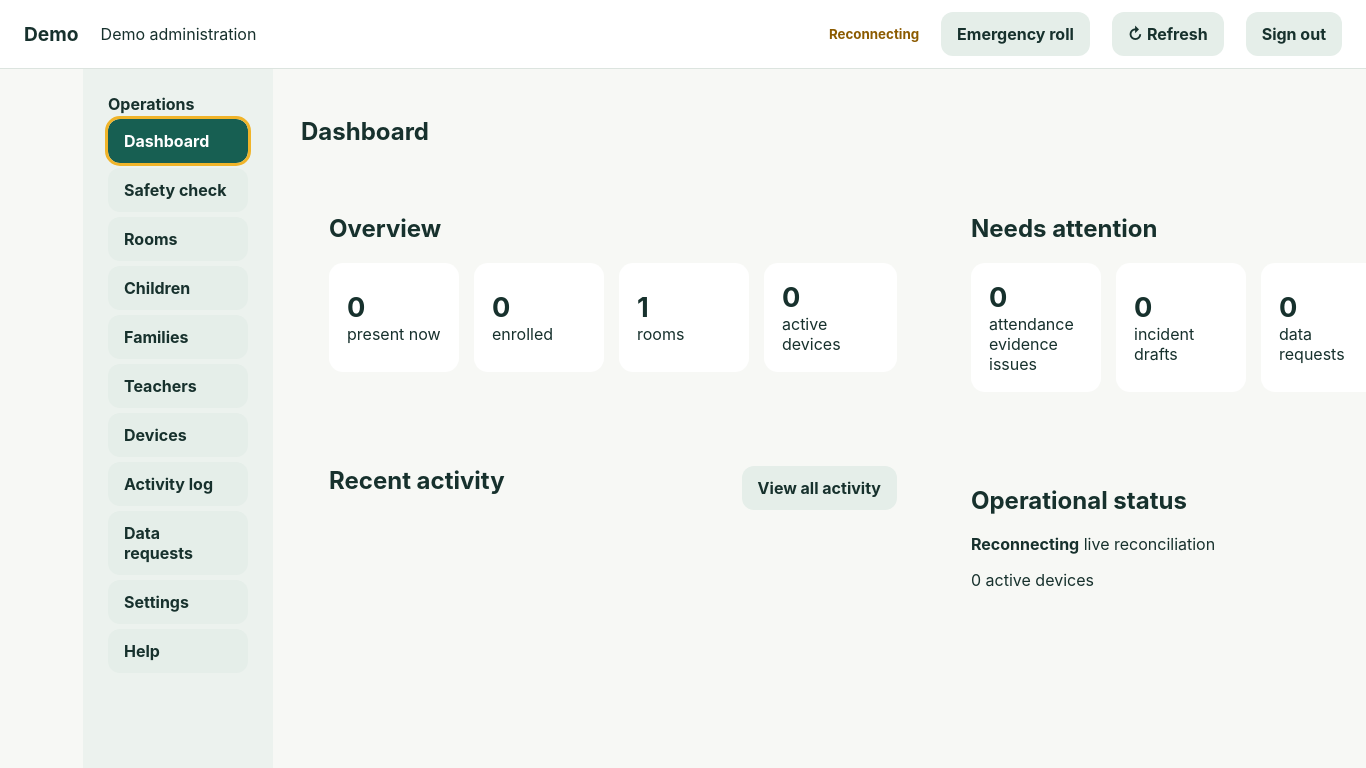
Scenario: 0.2.2 Admin pairing and dashboard › starts with QR, reveals words once, toggles locally, and opens the shared roll from the header
This screenshot has width=1366, height=768.
What coordinates should you click on to do the following:
click the button "Devices"
I would click on:
 (178, 435)
Its box is x1=108 y1=413 x2=248 y2=457.
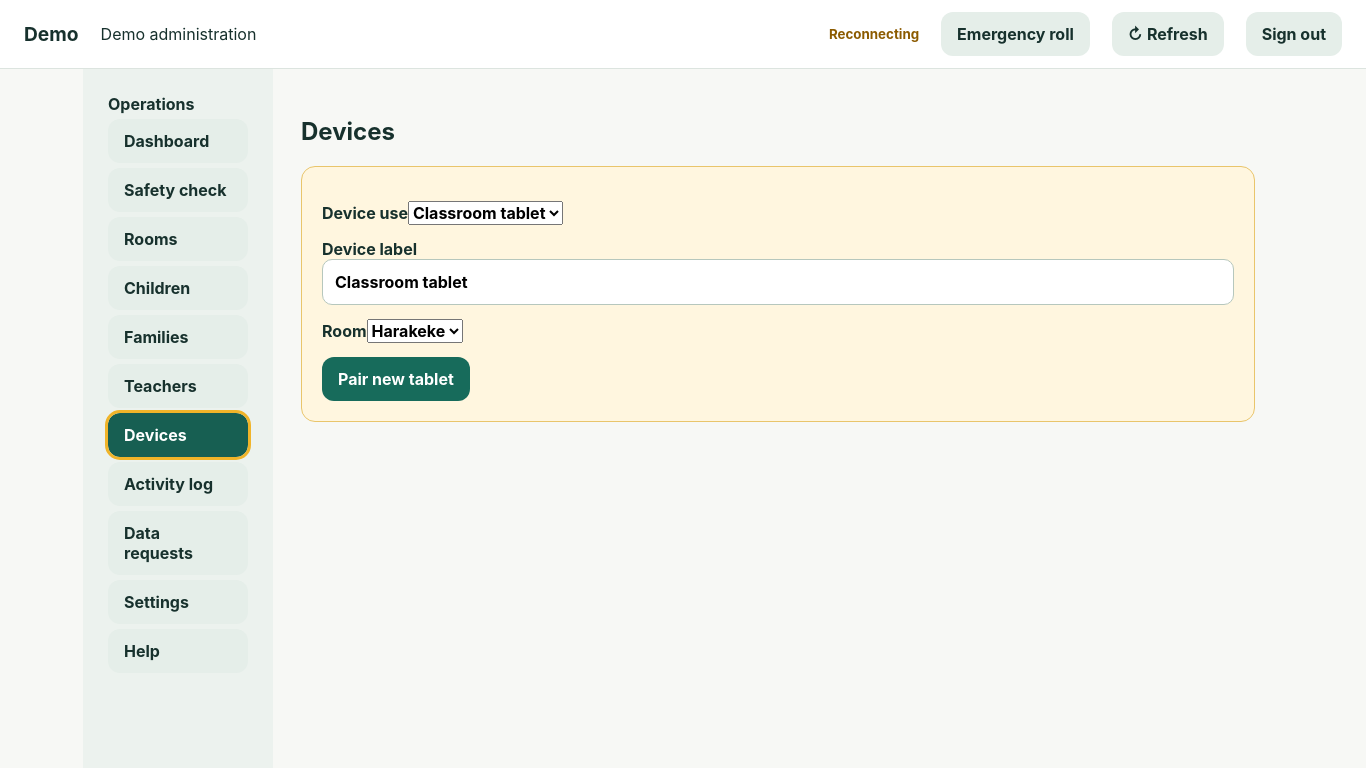
Result: the button "Pair new tablet" is shown
What coordinates should you click on to do the following:
click the button "Pair new tablet"
I would click on:
 (396, 379)
Its box is x1=322 y1=357 x2=470 y2=401.
(page scrolled)
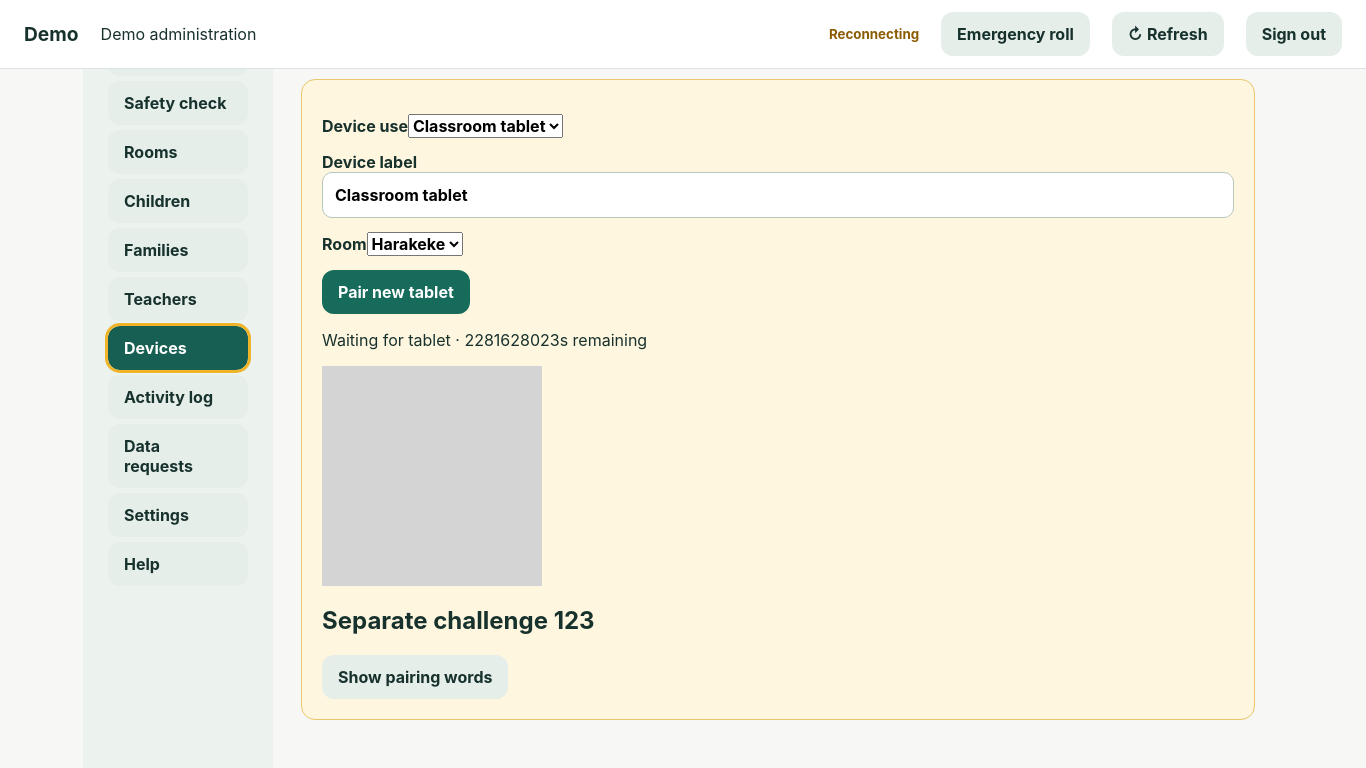
Expected: the text "river lamp garden" is not shown
What coordinates should you click on to do the following:
click the button "Show pairing words"
I would click on:
 (415, 677)
Its box is x1=322 y1=655 x2=508 y2=699.
(page scrolled)
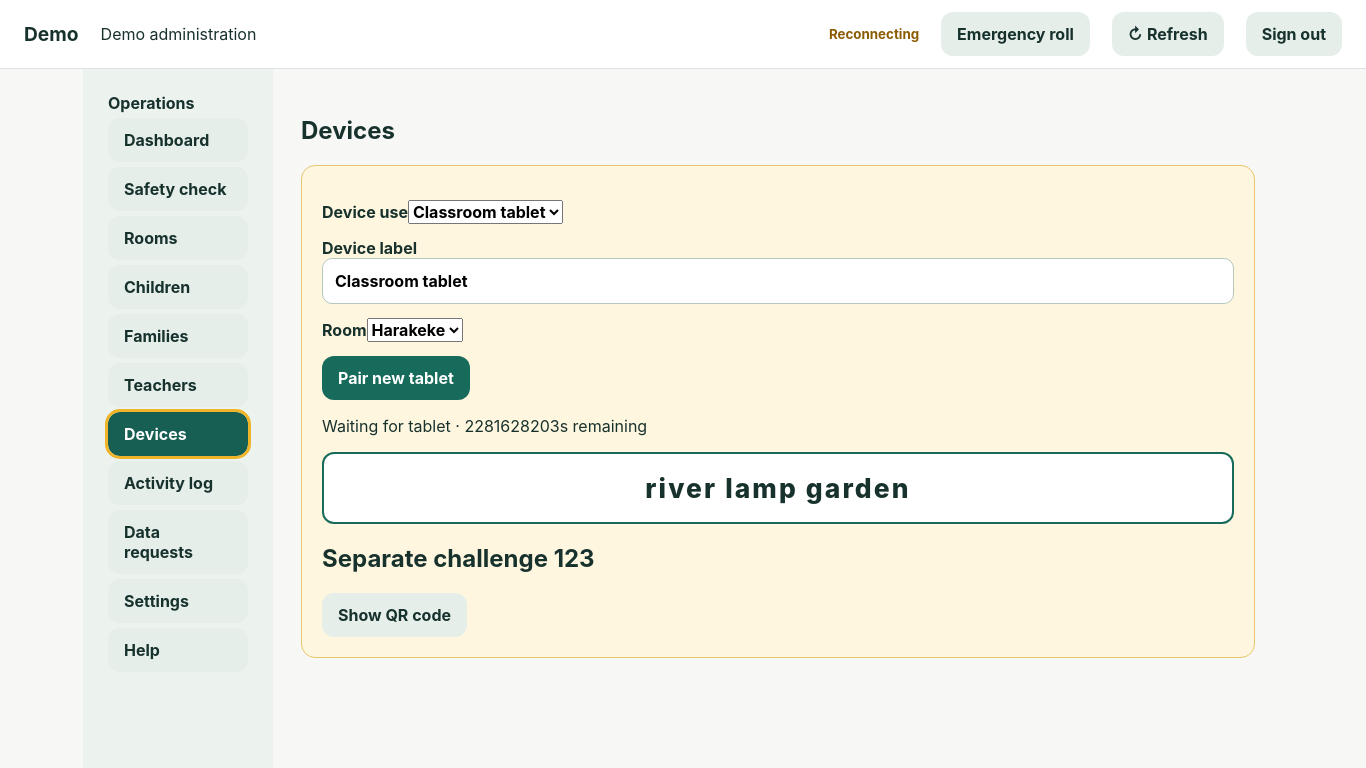
Result: the text "river lamp garden" is shown at x1=322 y1=452 x2=1234 y2=524
What coordinates should you click on to do the following:
click the button "Show QR code"
I would click on:
 (394, 615)
Its box is x1=322 y1=593 x2=467 y2=637.
(page scrolled)
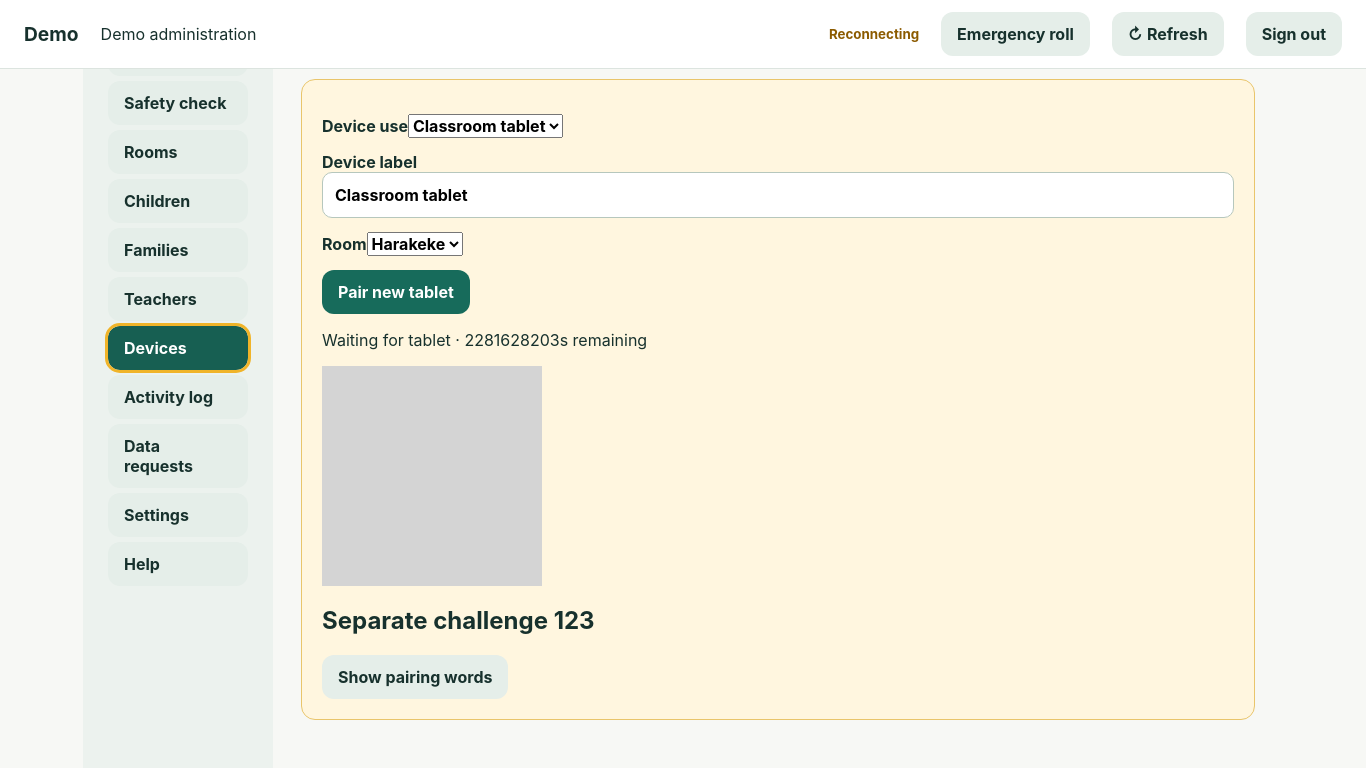
What coordinates should you click on to do the following:
click the button "Show pairing words"
I would click on:
 (415, 677)
Its box is x1=322 y1=655 x2=508 y2=699.
(page scrolled)
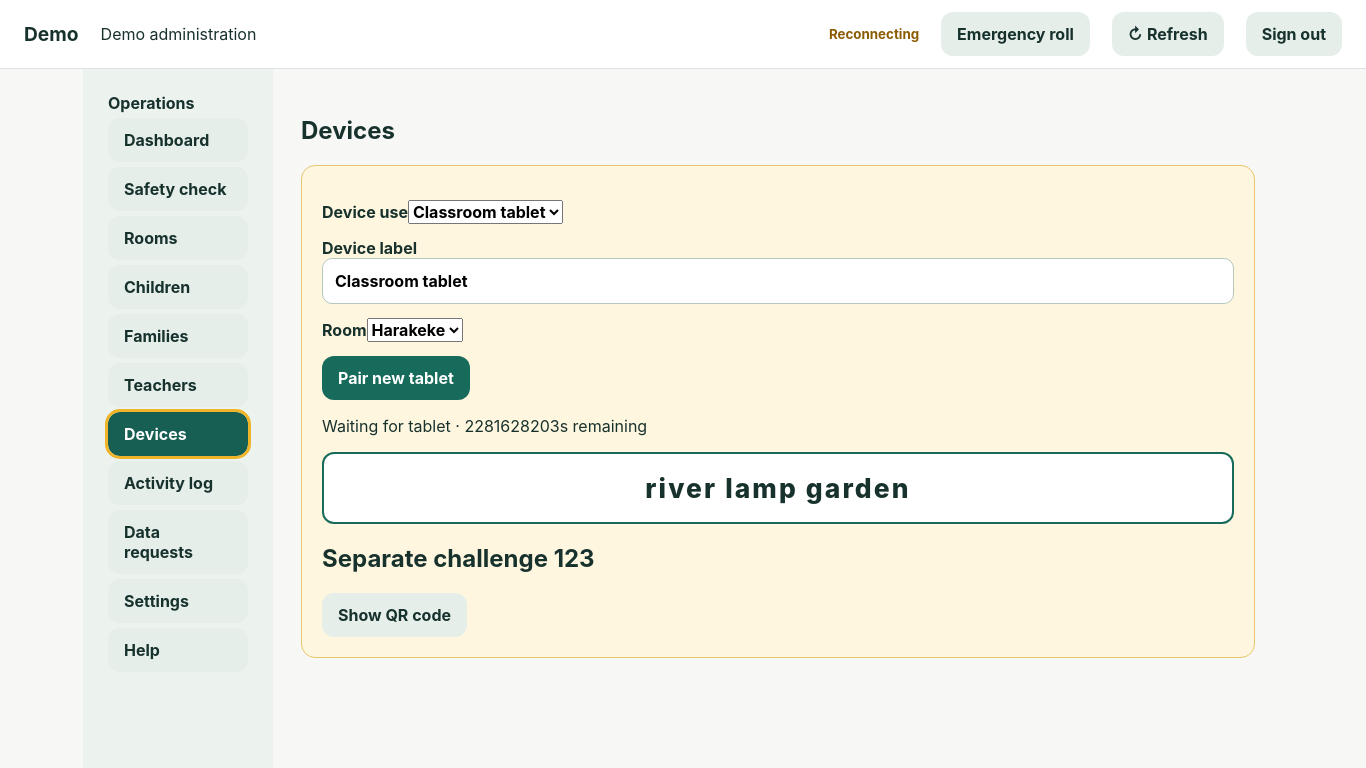
What coordinates should you click on to do the following:
click the button "Emergency roll"
I would click on:
 (1015, 34)
Its box is x1=941 y1=12 x2=1090 y2=56.
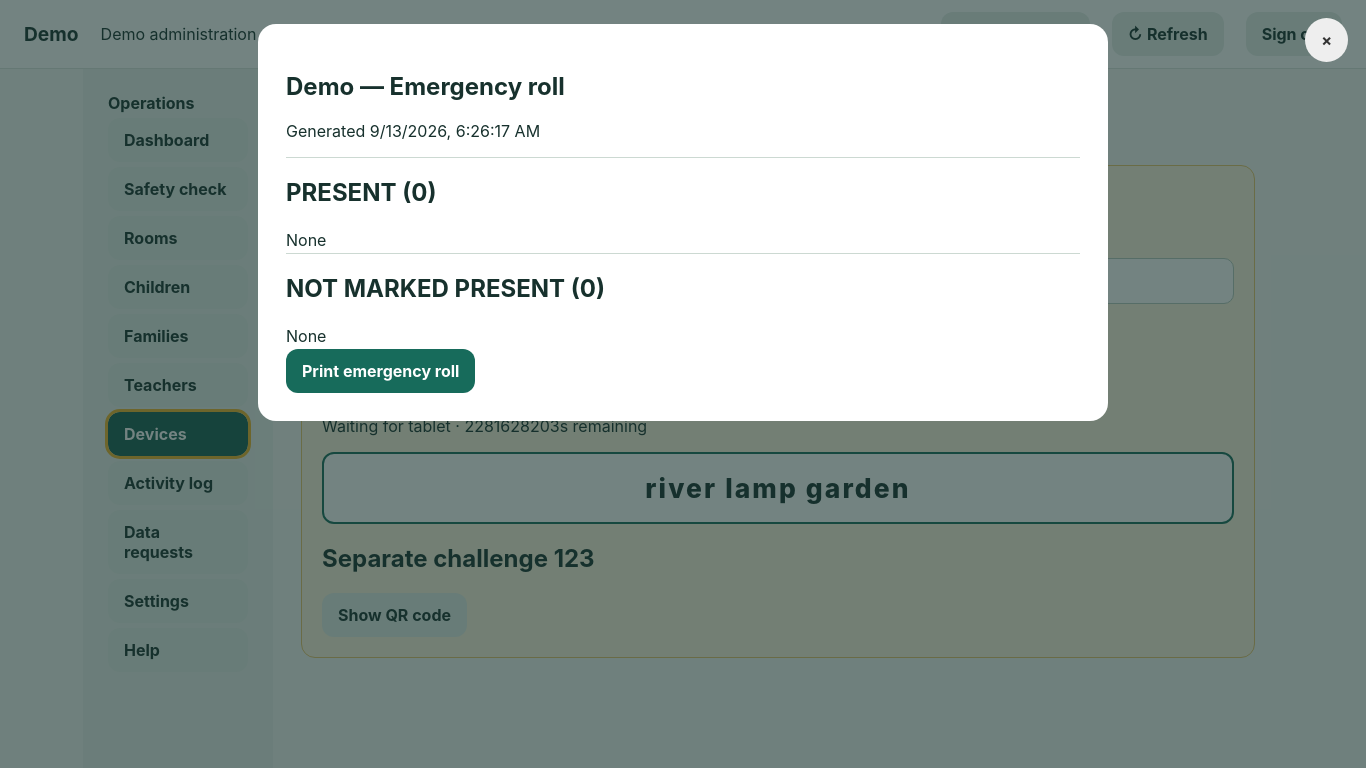
Result: the dialog with class "emergency-roll" is shown at x1=258 y1=24 x2=1108 y2=421
